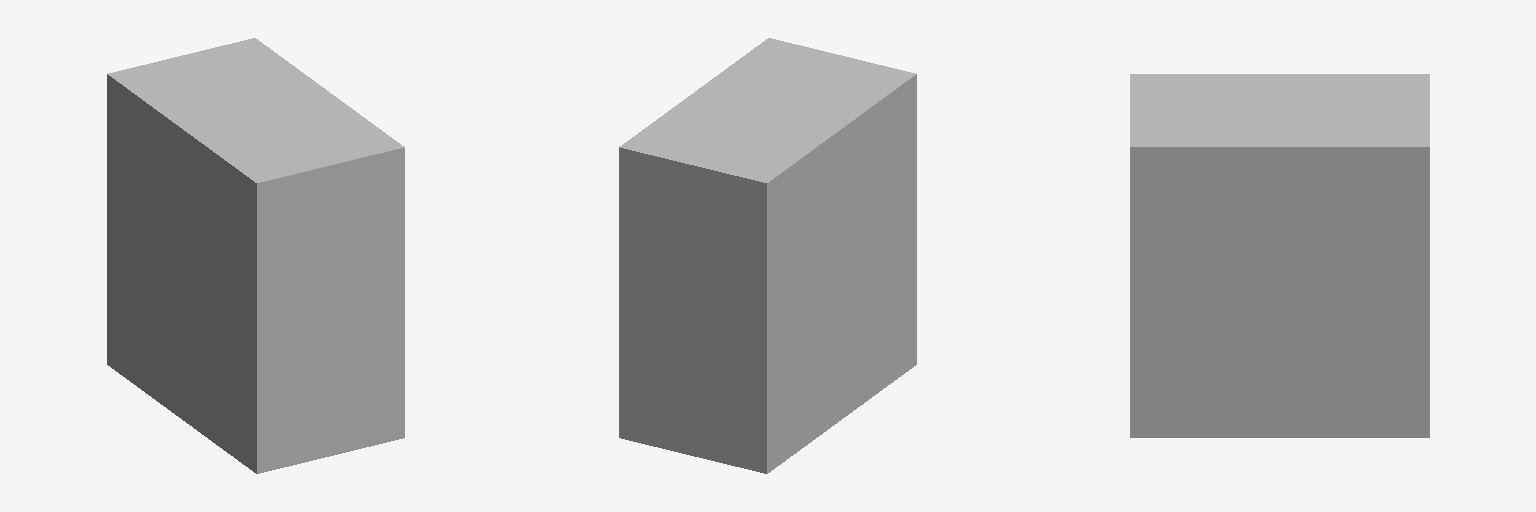
The model's file is jager-1.obj.
3 views of the same model, side by side, from view 1: azimuth 30°, elevation 25°; view 2: azimuth 150°, elevation 25°; view 3: azimuth 270°, elevation 25° (orthographic).
Parts seen in each view (by area): view 1: object 1; view 2: object 1; view 3: object 1.
Boxes of the visible parts, box(x1,y1,x2,y2) form: object 1: box(107, 38, 404, 473); object 1: box(619, 38, 916, 473); object 1: box(1130, 74, 1429, 437).
Bounding box in the file's own units: 0.8 × 1.5 × 1.4.